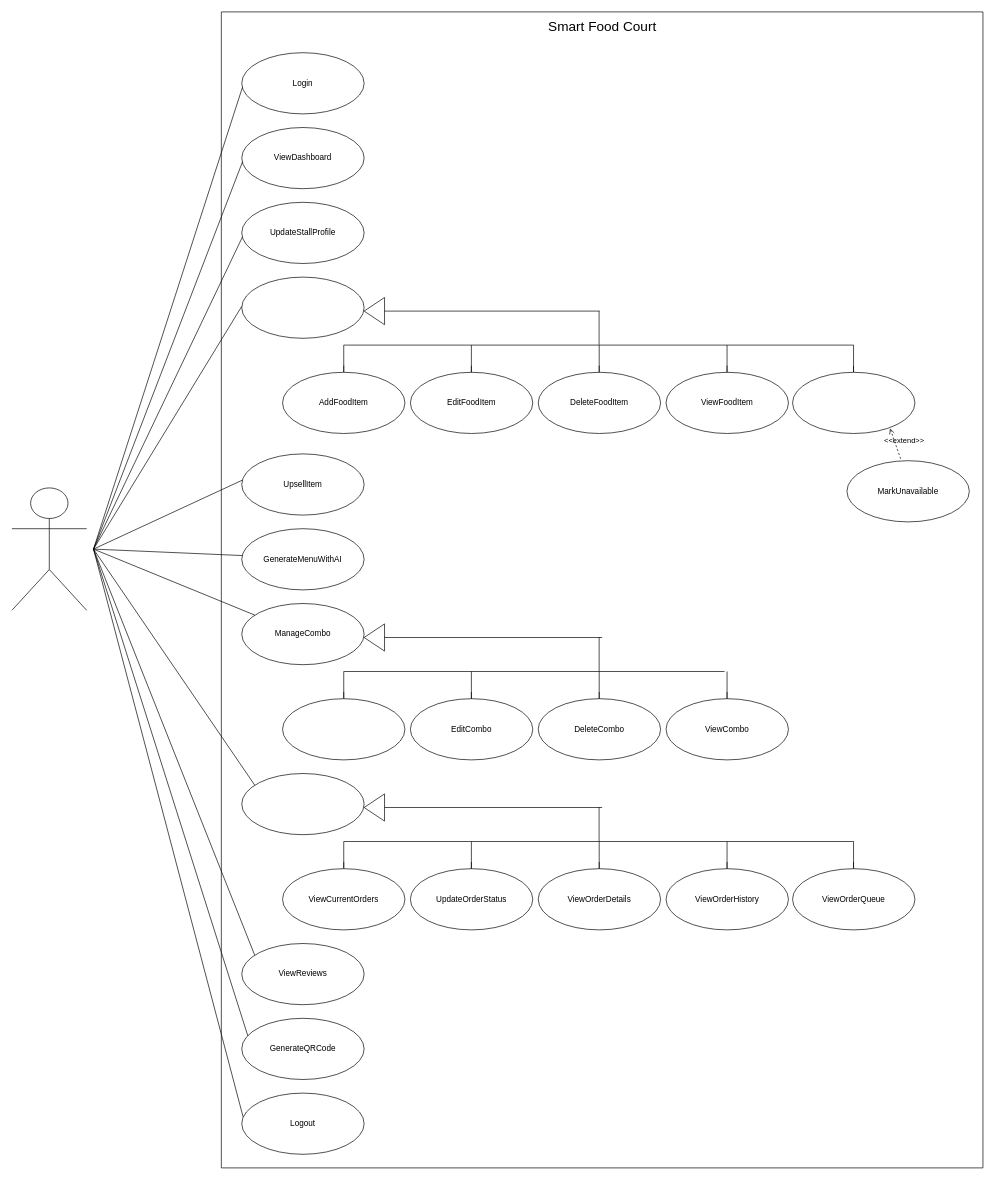
The diagram is 995 pixels wide and 1180 high, and some of its shapes have lost their labels. Each missing label, with the centre of its shape:
AddCombo: pixel 343 729
ManageFoodItem: pixel 302 307
ManageOrders: pixel 302 804
MarkAvailable: pixel 853 403
Stall: pixel 49 548
